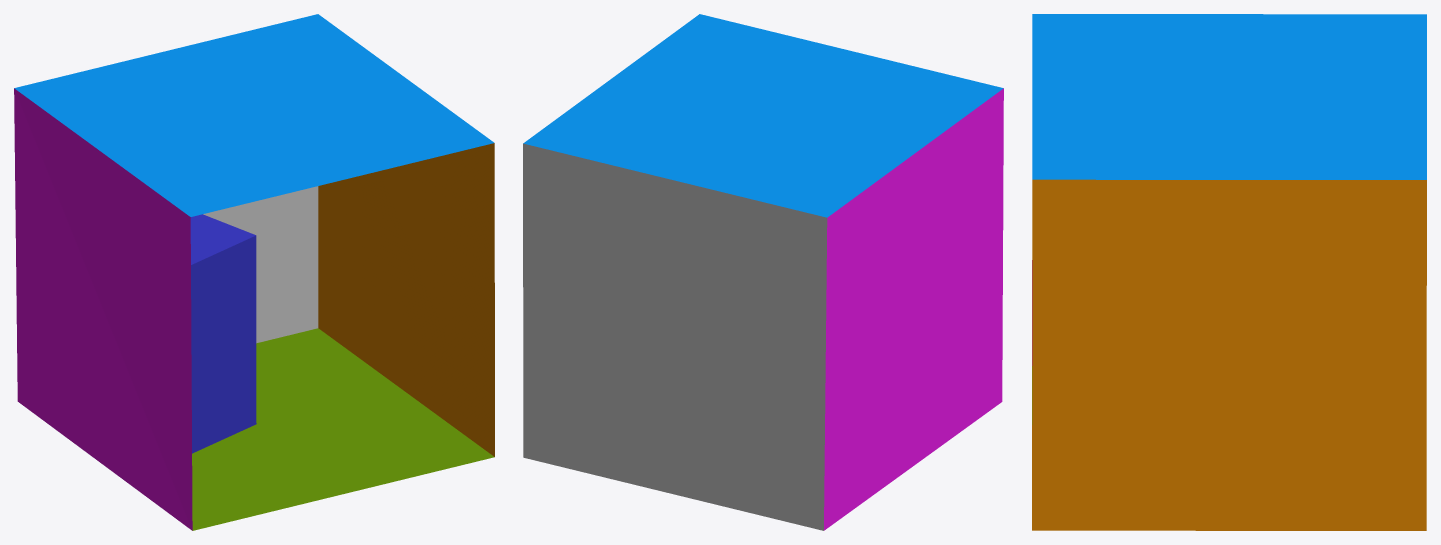
Rendered from textured-cornell-box.obj.
The picture shows the model from 3 angles, left to right: view 1: azimuth 30°, elevation 25°; view 2: azimuth 150°, elevation 25°; view 3: azimuth 270°, elevation 25°; orthographic projection. The views are drawn at different scales.
Visible parts, largest first — view 1: left_wall, ceiling, right_wall, floor, tall_box, back_wall; view 2: back_wall, left_wall, ceiling; view 3: right_wall, ceiling.
Boxes of the visible parts, box(x1,y1,x2,y2) form: left_wall: box(14, 88, 192, 530); ceiling: box(14, 14, 494, 216); right_wall: box(318, 143, 494, 456); floor: box(192, 328, 494, 530); tall_box: box(190, 214, 256, 453); back_wall: box(203, 186, 318, 343); back_wall: box(523, 143, 827, 530); left_wall: box(824, 88, 1003, 530); ceiling: box(523, 14, 1003, 217); right_wall: box(1032, 179, 1426, 530); ceiling: box(1032, 14, 1426, 179).
Size of the model in its own units: 5.56 by 5.49 by 5.6.
